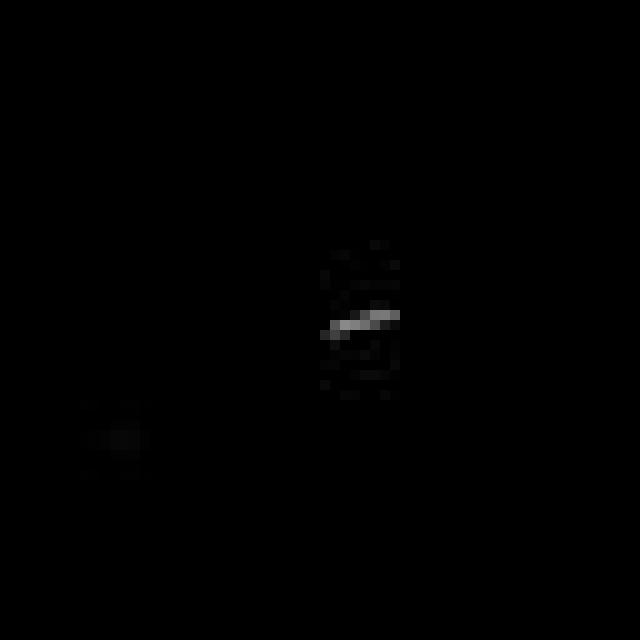1 -one-: (322, 296, 408, 354)
